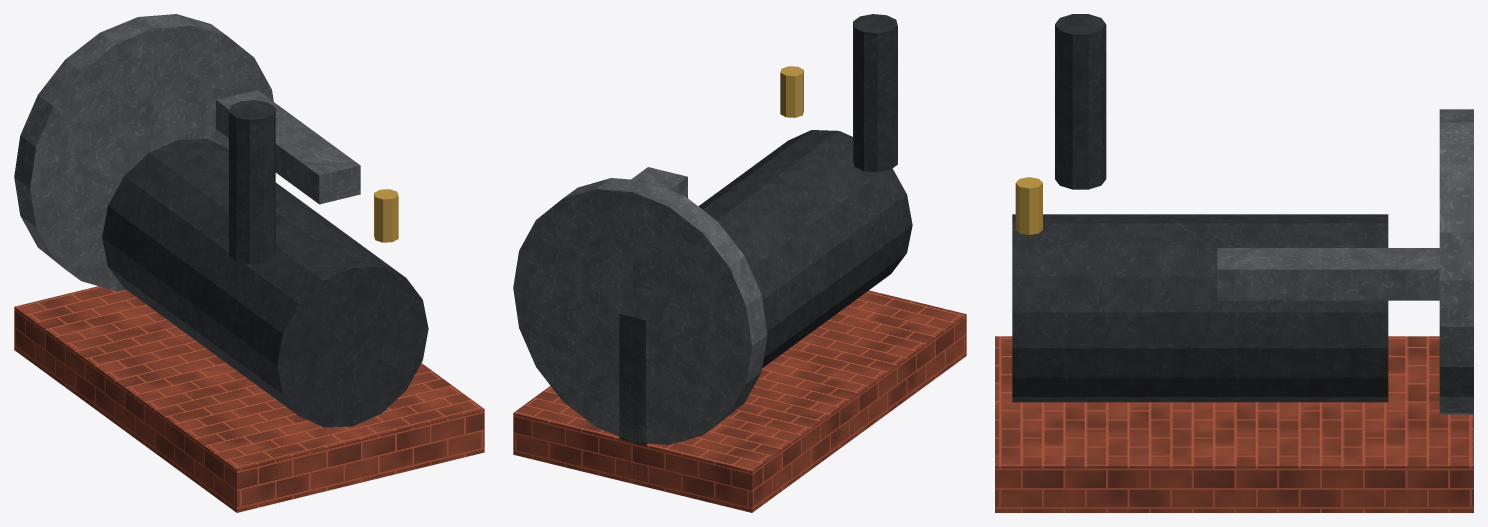
Rendered from maszyna_parowa.glb.
The picture shows the model from 3 angles, left to right: view 1: azimuth 30°, elevation 25°; view 2: azimuth 150°, elevation 25°; view 3: azimuth 270°, elevation 25°; orthographic projection. The views are drawn at different scales.
Parts seen in each view (by area): view 1: maszyna_parowa; view 2: maszyna_parowa; view 3: maszyna_parowa.
Boxes of the visible parts, x1,y1,x2,y2 form: maszyna_parowa: [14, 14, 484, 512]; maszyna_parowa: [513, 14, 966, 512]; maszyna_parowa: [995, 14, 1473, 512].
Bounding box in the file's own units: 1.8 × 2.5 × 2.8.
4 materials, 3 textured.
